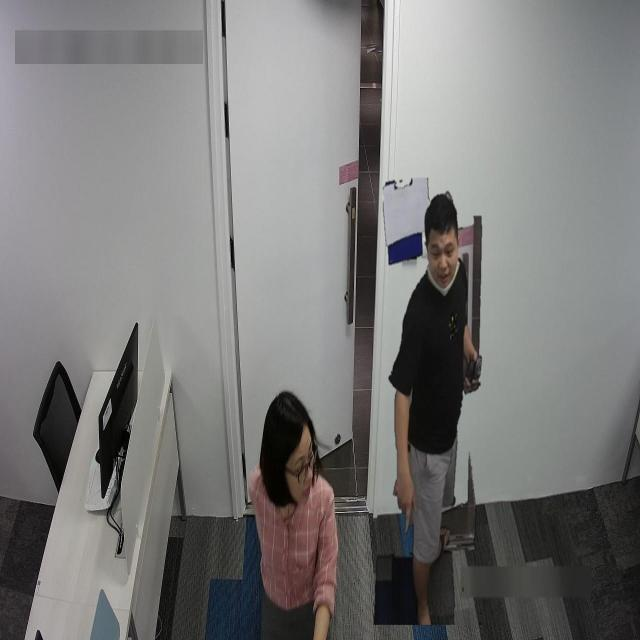hairnet: (423, 258, 460, 295)
no_hairnet: (282, 464, 320, 511)
